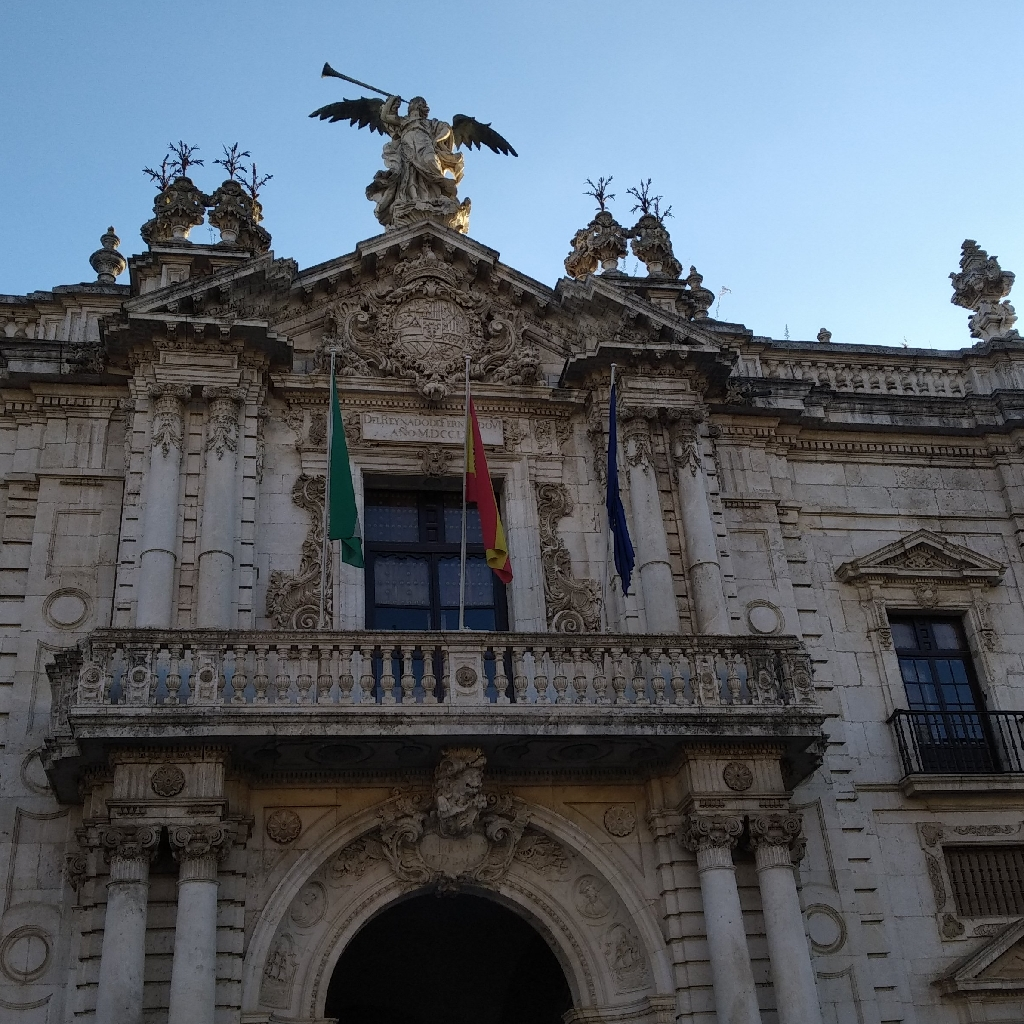arco-medio-punto: (305, 869, 590, 1024)
fronton: (840, 527, 1009, 586)
fronton-partido: (116, 217, 733, 370)
vano-adintelado: (322, 445, 547, 708), (860, 596, 1016, 780)
